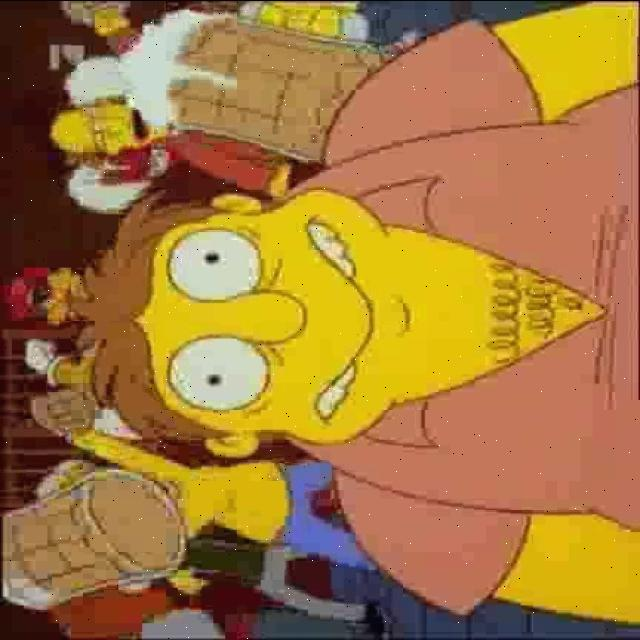Barney Gumble: (69, 186, 408, 456)
